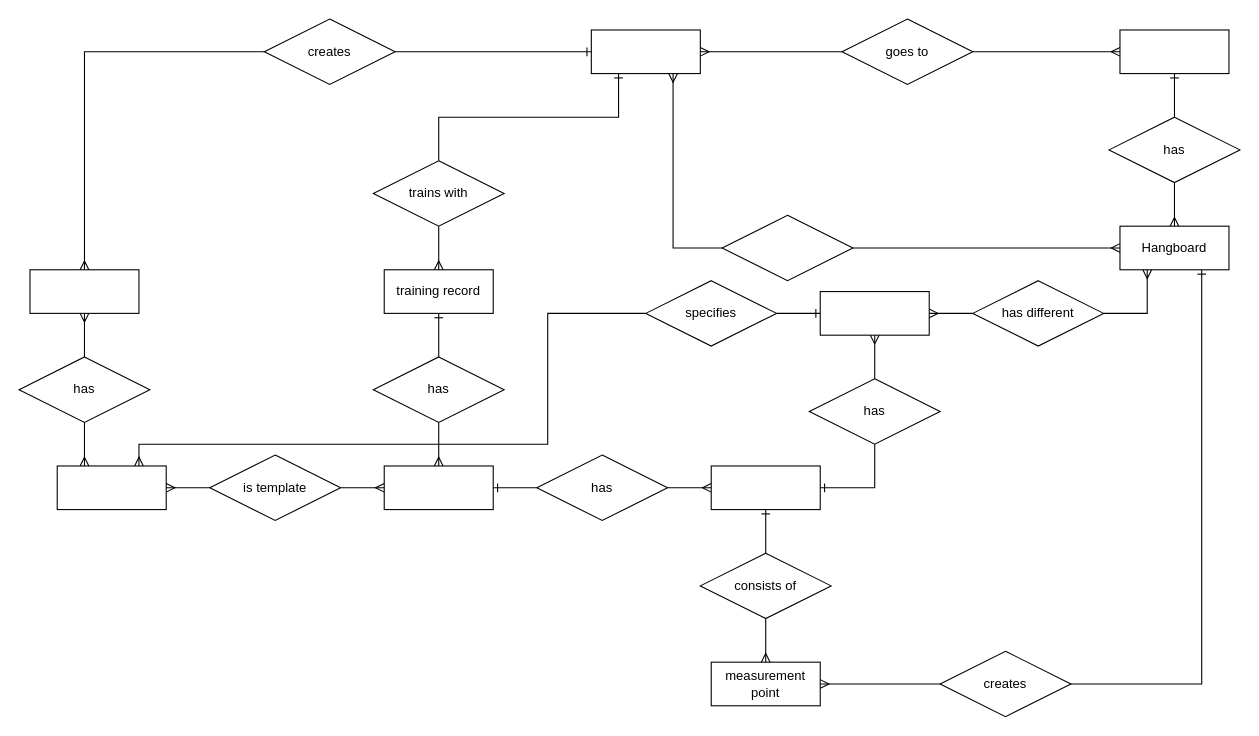
Some shapes in this 1259 by 736 pixel diagram are drawn without their labels. The shapes that lost their labels are listed below. From the top down, each one's centre as x and y in pixels, then its label:
At (645,51): "climber".
At (1174,51): "gym".
At (787,247): "uses".
At (84,291): "training template".
At (874,312): "griptype".
At (111,487): "exercise template".
At (438,487): "exercise record".
At (765,487): "record".
